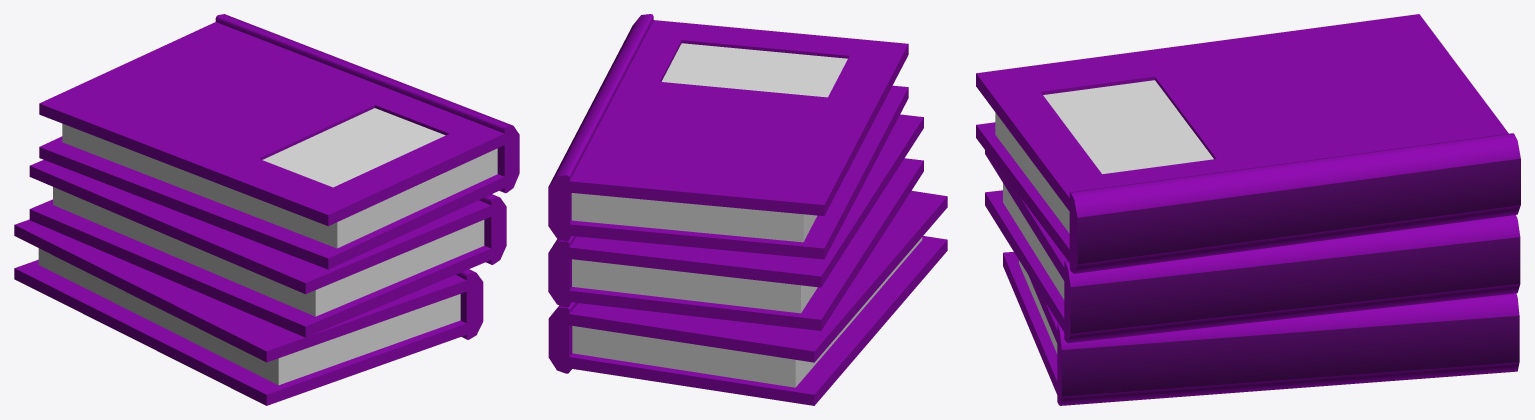
Rendered from Hea_Ba_Books_2.fbx.
3 renders of one model, left to right at view 1: azimuth 30°, elevation 25°; view 2: azimuth 150°, elevation 25°; view 3: azimuth 270°, elevation 25°, orthographic. The views are drawn at different scales.
Parts seen in each view (by area): view 1: Book_Stack_Toilet_Laying; view 2: Book_Stack_Toilet_Laying; view 3: Book_Stack_Toilet_Laying.
Boxes of the visible parts, x1,y1,x2,y2 form: Book_Stack_Toilet_Laying: (14, 14, 519, 405); Book_Stack_Toilet_Laying: (548, 14, 947, 405); Book_Stack_Toilet_Laying: (976, 14, 1520, 405).
Size of the model in its own units: 25.36 by 13.98 by 29.32.
